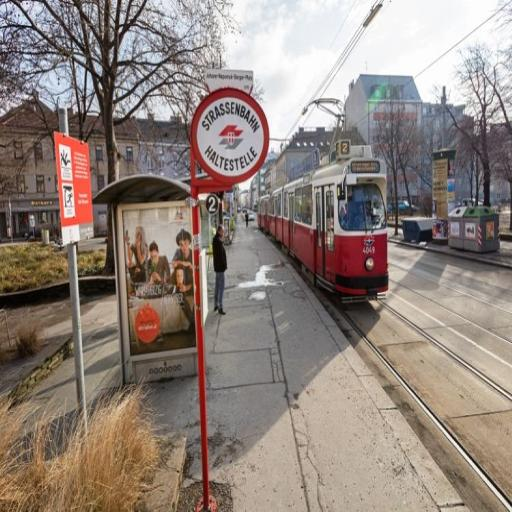E2-Tram: (257, 138, 391, 296)
